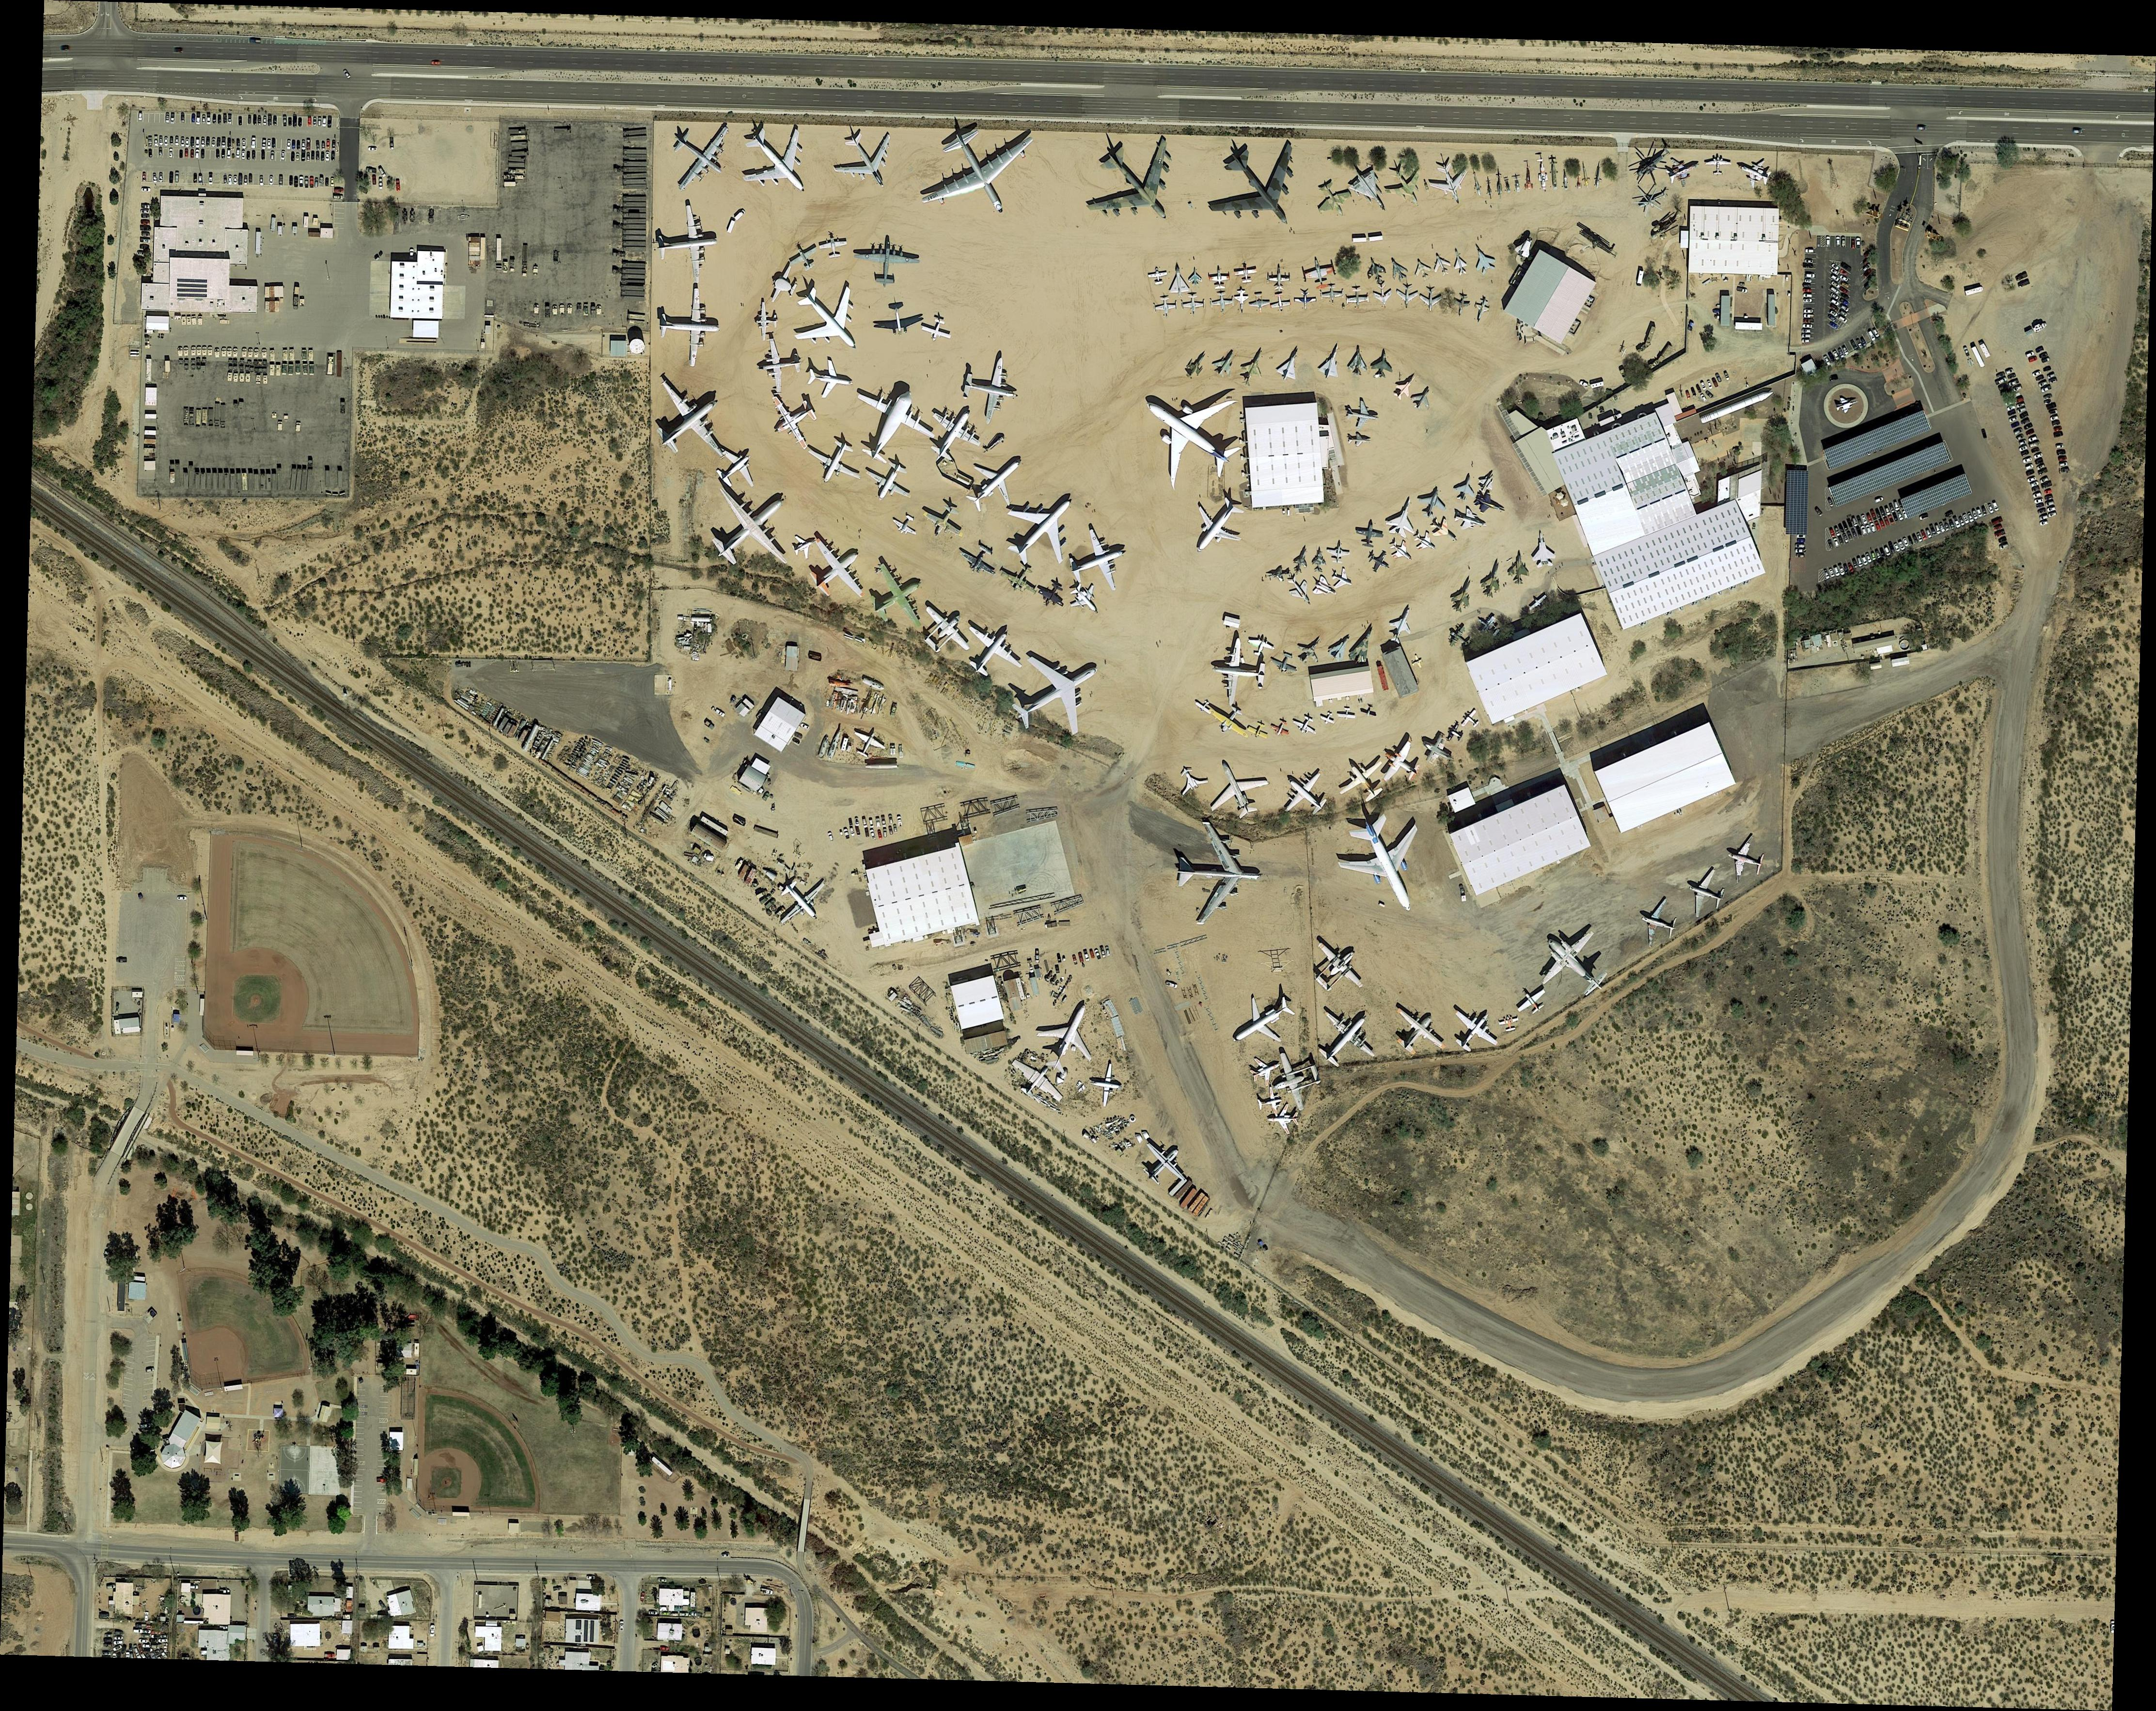plane: (1109, 357, 1270, 513), (898, 101, 1060, 245), (1064, 114, 1211, 254), (1186, 119, 1335, 257), (684, 464, 821, 595), (992, 630, 1122, 754), (630, 359, 752, 483), (1325, 803, 1444, 929), (983, 469, 1104, 583), (1515, 910, 1633, 1023), (772, 262, 889, 376), (831, 371, 950, 483), (719, 103, 835, 217), (1171, 817, 1269, 931), (647, 101, 751, 205), (1298, 988, 1393, 1085), (789, 520, 884, 616), (819, 114, 915, 208), (945, 436, 1041, 528), (1024, 990, 1115, 1088), (849, 553, 943, 646), (948, 607, 1039, 693), (1172, 483, 1260, 569), (908, 395, 996, 479), (1195, 747, 1279, 833), (1216, 980, 1305, 1060), (1295, 927, 1379, 1008), (905, 591, 987, 670), (651, 203, 724, 289), (1062, 520, 1141, 598), (955, 348, 1029, 432), (654, 283, 726, 369), (1377, 995, 1459, 1067), (763, 864, 842, 938), (758, 380, 831, 458), (700, 432, 773, 504), (1269, 758, 1342, 829), (1127, 1130, 1200, 1200), (796, 429, 870, 499), (999, 1048, 1074, 1116), (1440, 995, 1512, 1065), (1328, 745, 1400, 814), (1263, 1043, 1330, 1116), (849, 231, 926, 294), (1206, 635, 1270, 709), (1370, 726, 1435, 796), (856, 451, 924, 514), (1339, 154, 1400, 220), (1375, 156, 1438, 215), (1678, 859, 1734, 924), (1199, 693, 1263, 747), (1631, 892, 1685, 955), (1718, 828, 1773, 890), (752, 332, 805, 397), (915, 495, 973, 549), (1424, 156, 1479, 210), (1379, 490, 1428, 544), (994, 553, 1048, 602), (803, 355, 859, 402), (1307, 175, 1360, 224), (954, 534, 1006, 583), (1414, 724, 1465, 773), (1062, 574, 1111, 625), (870, 299, 926, 339), (1659, 149, 1708, 194), (763, 259, 807, 310), (1342, 619, 1384, 672), (1732, 150, 1778, 196), (843, 723, 892, 765), (1232, 343, 1274, 390), (1381, 602, 1423, 649), (1085, 1060, 1125, 1109), (1510, 980, 1556, 1022), (1410, 483, 1454, 525), (782, 234, 826, 276), (1279, 569, 1321, 612), (1290, 628, 1332, 670), (1424, 509, 1466, 551), (1171, 758, 1213, 800), (1244, 1050, 1288, 1090), (1270, 343, 1311, 387), (1298, 254, 1340, 294), (1444, 574, 1482, 618), (1342, 395, 1384, 434), (1032, 576, 1073, 614), (1314, 339, 1349, 383), (1475, 558, 1510, 602), (1386, 367, 1424, 406), (1323, 628, 1358, 668), (1466, 238, 1500, 280), (1470, 488, 1512, 521), (1451, 504, 1493, 537), (1207, 345, 1244, 381), (1442, 619, 1479, 656), (917, 313, 957, 346), (1267, 1100, 1302, 1137), (786, 528, 822, 563), (1307, 569, 1344, 604), (1472, 609, 1507, 644), (1447, 471, 1482, 506), (1384, 534, 1419, 569), (1528, 530, 1559, 569), (1241, 632, 1279, 663), (1524, 590, 1559, 623), (889, 507, 924, 541), (1255, 1083, 1286, 1120), (1267, 647, 1304, 679), (815, 227, 849, 261), (1365, 544, 1398, 577), (754, 301, 780, 343), (1290, 710, 1323, 742), (1409, 525, 1442, 556), (1353, 520, 1386, 551), (1326, 562, 1358, 595), (1181, 348, 1211, 383), (1407, 383, 1438, 415), (1361, 252, 1389, 287), (1507, 548, 1531, 586), (1472, 467, 1501, 499), (1323, 537, 1354, 567), (1167, 264, 1192, 301), (1456, 703, 1486, 733), (1384, 254, 1412, 285), (1370, 350, 1398, 381), (1428, 248, 1456, 280), (1288, 546, 1314, 579), (1244, 716, 1274, 744), (1153, 292, 1179, 322), (1442, 717, 1468, 747), (1470, 294, 1494, 325), (1347, 345, 1370, 378), (1209, 289, 1235, 317), (1265, 264, 1291, 292), (1395, 282, 1421, 310), (1409, 254, 1435, 282), (1372, 280, 1395, 311), (1449, 245, 1470, 278), (1181, 292, 1207, 318), (1307, 546, 1330, 576), (1262, 563, 1293, 584), (1232, 261, 1258, 285), (1246, 290, 1272, 315), (1419, 287, 1444, 313), (1269, 716, 1295, 740), (1192, 695, 1218, 719), (1832, 394, 1860, 416), (1207, 264, 1230, 292), (1451, 290, 1473, 318), (1319, 282, 1344, 306), (1496, 1011, 1522, 1034), (1267, 290, 1293, 313), (1704, 156, 1732, 177), (1146, 264, 1169, 287), (1293, 290, 1318, 311), (1346, 289, 1370, 310), (1232, 287, 1249, 315), (1346, 432, 1372, 450), (1318, 709, 1339, 730), (1358, 702, 1381, 721), (1335, 705, 1358, 724), (1186, 266, 1204, 287), (1409, 653, 1426, 672)
